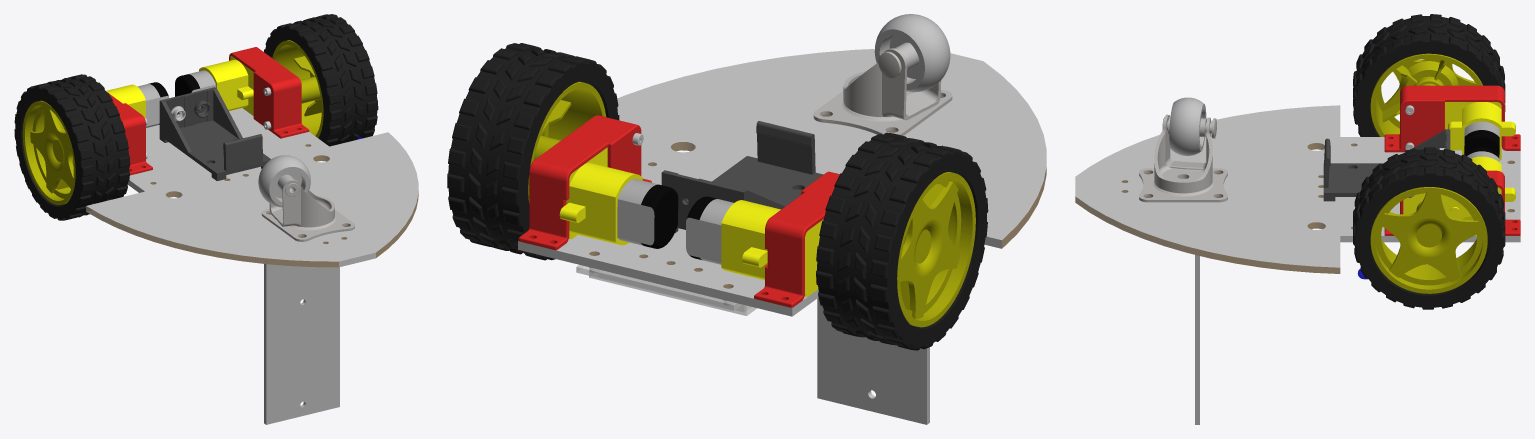
Rendered from Bil komplett för webots.obj.
3 renders of one model, left to right at view 1: azimuth 30°, elevation 25°; view 2: azimuth 150°, elevation 25°; view 3: azimuth 270°, elevation 25°, orthographic. The views are drawn at different scales.
Visible parts, largest first — view 1: Solid1, Solid1:30, Solid1:13, Solid1:11, Solid3, Solid1:14, Solid1:10, Solid1:12, Solid1:22, Solid1:7, Solid1:21, Solid1:5 (+4 smaller); view 2: Solid1, Solid1:13, Solid1:11, Solid1:14, Solid1:30, Solid3, Solid1:10, Solid1:5, Solid1:7, Solid1:2, Solid1:21, Solid1:22 (+5 smaller); view 3: Solid1, Solid1:11, Solid1:12, Solid1:13, Solid1:5, Solid1:14, Solid1:22, Solid3, Solid1:2, Solid1:21, Solid1:23, Solid1:7 (+3 smaller).
Part boxes in pixels (x1=…): Solid1: x1=86, y1=108, x2=418, y2=267; Solid1:30: x1=264, y1=264, x2=339, y2=424; Solid1:13: x1=14, y1=74, x2=130, y2=220; Solid1:11: x1=264, y1=14, x2=378, y2=146; Solid3: x1=159, y1=87, x2=270, y2=180; Solid1:14: x1=22, y1=100, x2=75, y2=205; Solid1:10: x1=229, y1=47, x2=309, y2=138; Solid1:12: x1=272, y1=40, x2=323, y2=137; Solid1:22: x1=269, y1=179, x2=334, y2=227; Solid1:7: x1=199, y1=56, x2=253, y2=115; Solid1:21: x1=258, y1=155, x2=310, y2=207; Solid1:5: x1=106, y1=91, x2=152, y2=175; Solid1: x1=518, y1=49, x2=1046, y2=316; Solid1:13: x1=816, y1=132, x2=988, y2=350; Solid1:11: x1=447, y1=43, x2=619, y2=260; Solid1:14: x1=897, y1=172, x2=975, y2=327; Solid1:30: x1=817, y1=114, x2=929, y2=424; Solid3: x1=661, y1=121, x2=823, y2=232; Solid1:10: x1=518, y1=115, x2=651, y2=250; Solid1:5: x1=754, y1=171, x2=839, y2=307; Solid1:7: x1=559, y1=147, x2=642, y2=245; Solid1:2: x1=721, y1=200, x2=823, y2=296; Solid1:21: x1=874, y1=14, x2=950, y2=92; Solid1:22: x1=843, y1=48, x2=941, y2=120; Solid1: x1=1075, y1=105, x2=1520, y2=273; Solid1:11: x1=1353, y1=147, x2=1505, y2=309; Solid1:12: x1=1370, y1=187, x2=1487, y2=293; Solid1:13: x1=1353, y1=14, x2=1505, y2=136; Solid1:5: x1=1384, y1=85, x2=1520, y2=152; Solid1:14: x1=1370, y1=53, x2=1482, y2=136; Solid1:22: x1=1154, y1=114, x2=1212, y2=193; Solid3: x1=1323, y1=129, x2=1450, y2=201; Solid1:2: x1=1445, y1=102, x2=1515, y2=160; Solid1:21: x1=1168, y1=97, x2=1207, y2=155; Solid1:23: x1=1139, y1=168, x2=1227, y2=202; Solid1:7: x1=1403, y1=156, x2=1515, y2=235.
Bounding box in the file's own units: 164 × 147 × 190.
